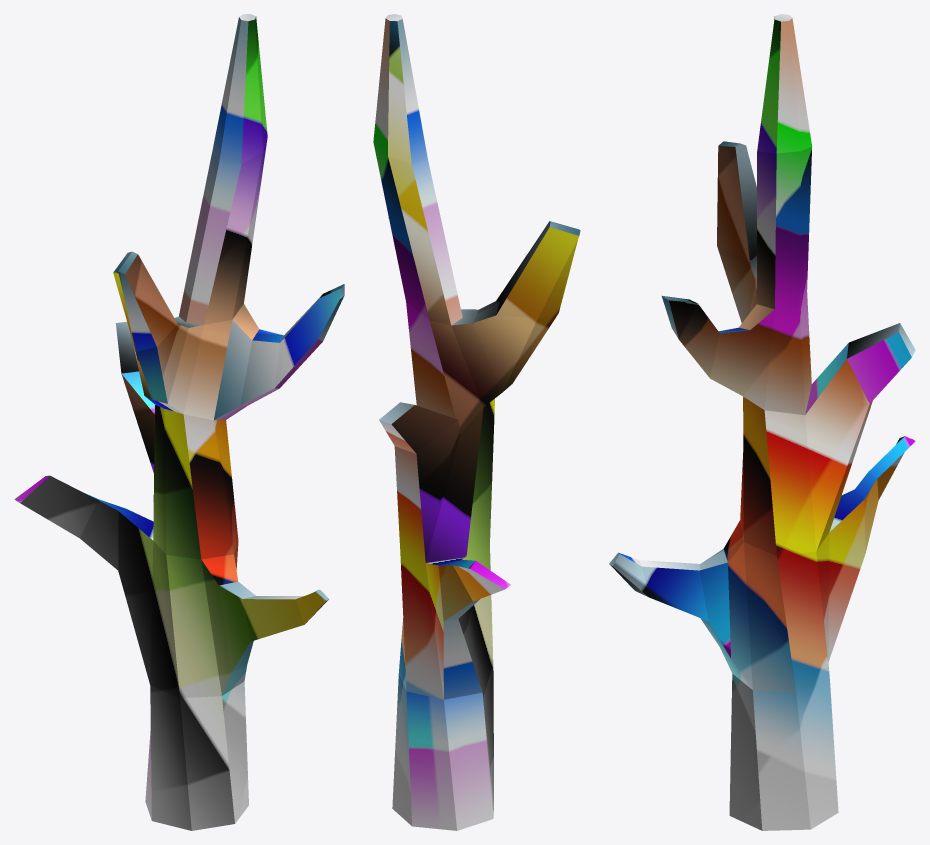
Rendered from arbuste_de_glace2.fbx.
3 renders of one model, left to right at view 1: azimuth 30°, elevation 25°; view 2: azimuth 150°, elevation 25°; view 3: azimuth 270°, elevation 25°, orthographic. The views are drawn at different scales.
Parts seen in each view (by area): view 1: Cylinder.026; view 2: Cylinder.026; view 3: Cylinder.026.
Part boxes in pixels (x1,y1,x2,y2): Cylinder.026: (14,14,344,830); Cylinder.026: (373,14,580,830); Cylinder.026: (609,14,915,830).
Bounding box in the file's own units: 1.05 × 3.49 × 1.19.
1 material, 1 textured.
